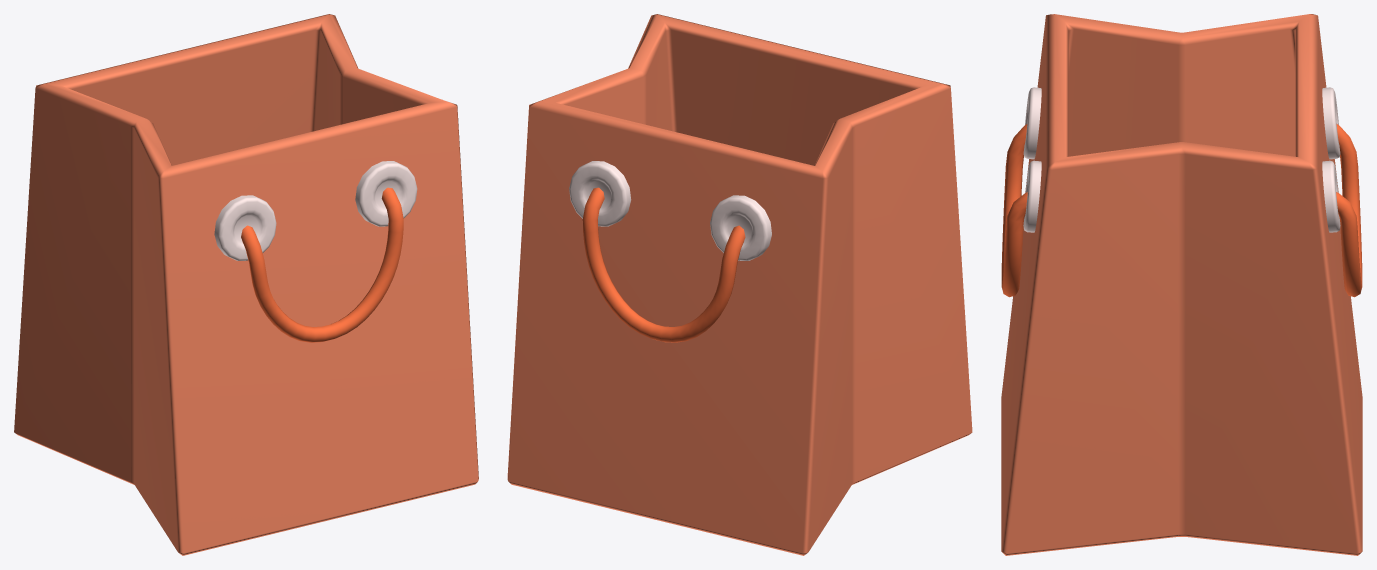
Rendered from Public_6_Package_1.glb.
3 views of the same model, side by side, from view 1: azimuth 30°, elevation 25°; view 2: azimuth 150°, elevation 25°; view 3: azimuth 270°, elevation 25° (orthographic). The views are drawn at different scales.
Parts seen in each view (by area): view 1: Public_6_Package_1; view 2: Public_6_Package_1; view 3: Public_6_Package_1.
Part boxes in pixels (bbox=[...]): Public_6_Package_1: bbox=[14, 14, 478, 555]; Public_6_Package_1: bbox=[507, 14, 972, 555]; Public_6_Package_1: bbox=[1001, 14, 1362, 555].
Size of the model in its own units: 0.9142 by 1.07 by 0.8908.
Materials: 1 (1 with a texture image).
